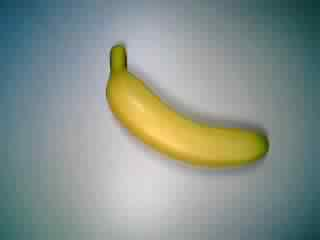banana: (105, 44, 270, 169)
